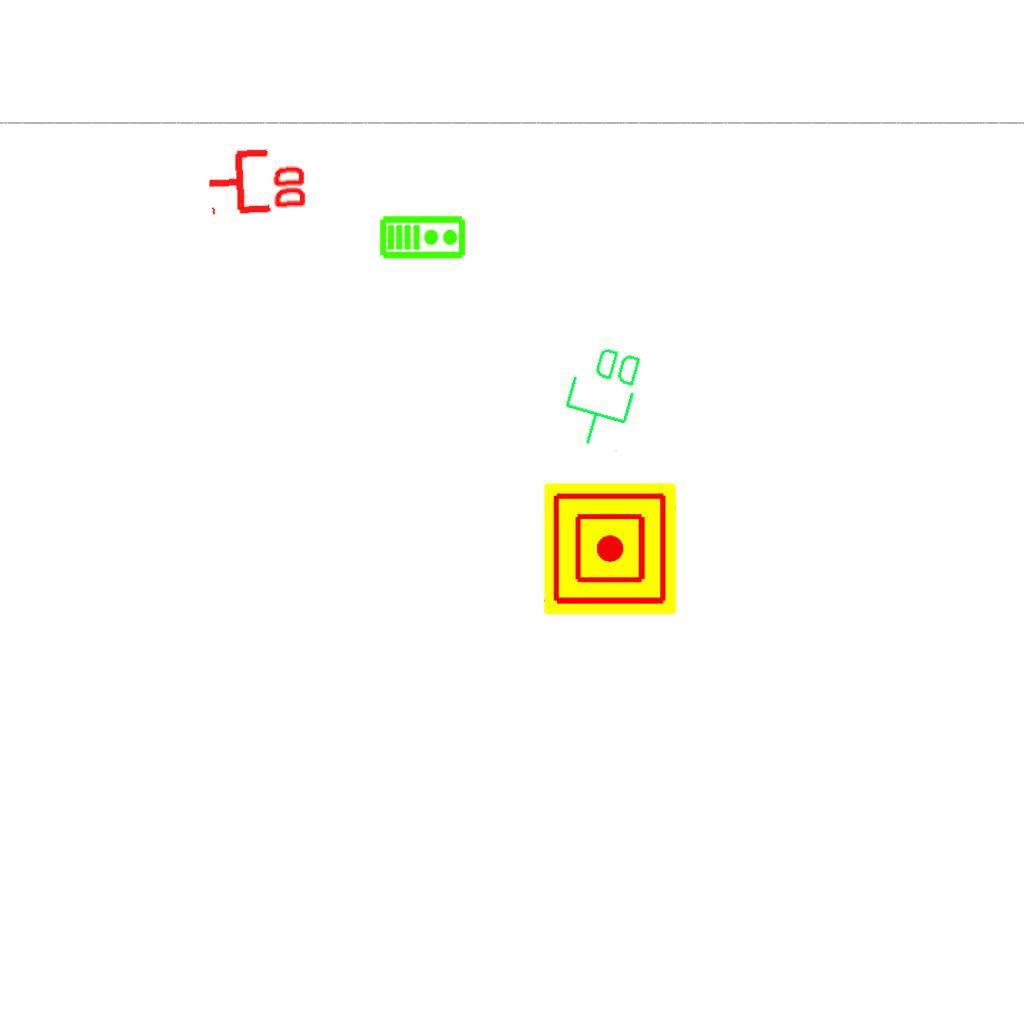Datenanschluss_zweifach: (554, 337, 649, 456), (204, 142, 311, 217)
Gegensprechanlage_mit_Video: (379, 213, 467, 260)
NAM-Nichtautomatischer_Melder: (544, 483, 676, 615)
